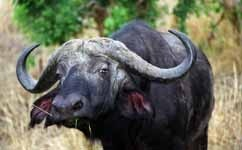buffalo: (15, 20, 215, 150)
